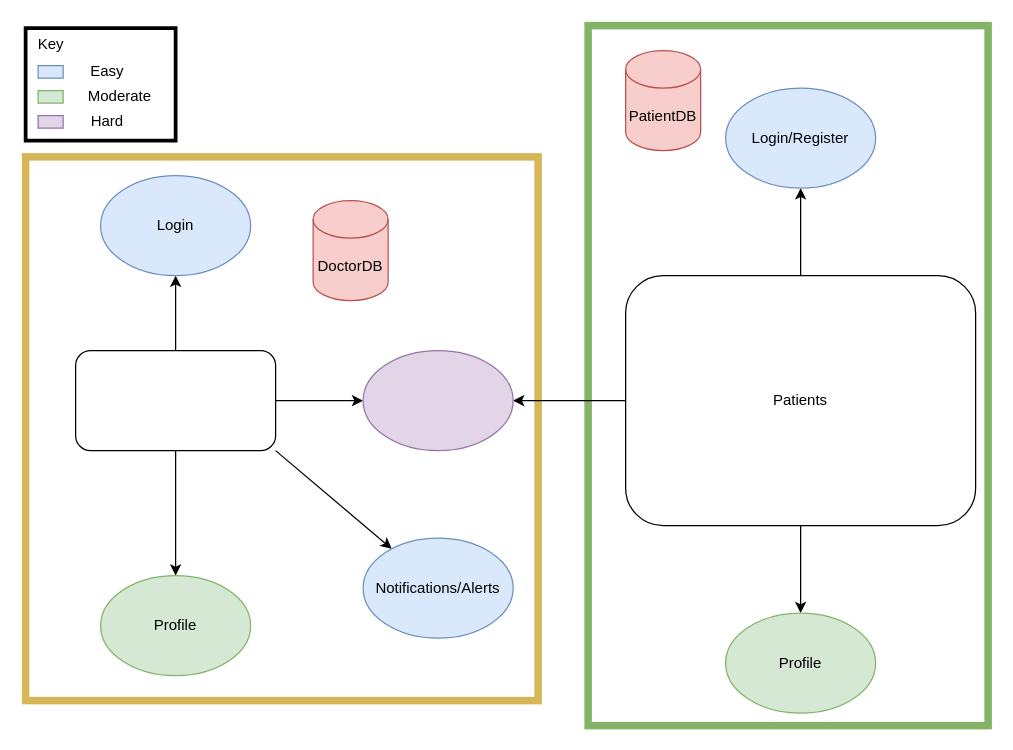
Some shapes in this 1013 by 750 pixel diagram are drawn without their labels. The shapes that lost their labels are listed below. From the top down, each one's centre as x and y in pixels, then its label:
At point (175, 400): "Doctors".
At point (437, 400): "Dashboard".
